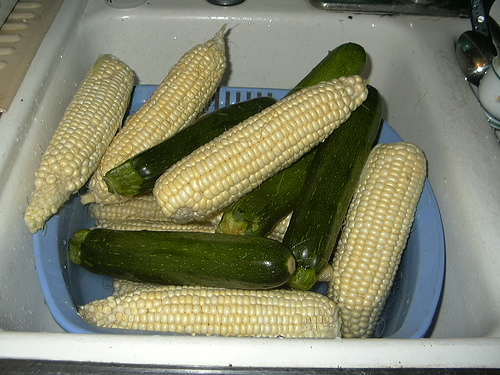corn: (78, 21, 264, 206), (151, 73, 369, 225), (25, 54, 138, 234), (324, 140, 427, 337), (78, 283, 339, 339)
